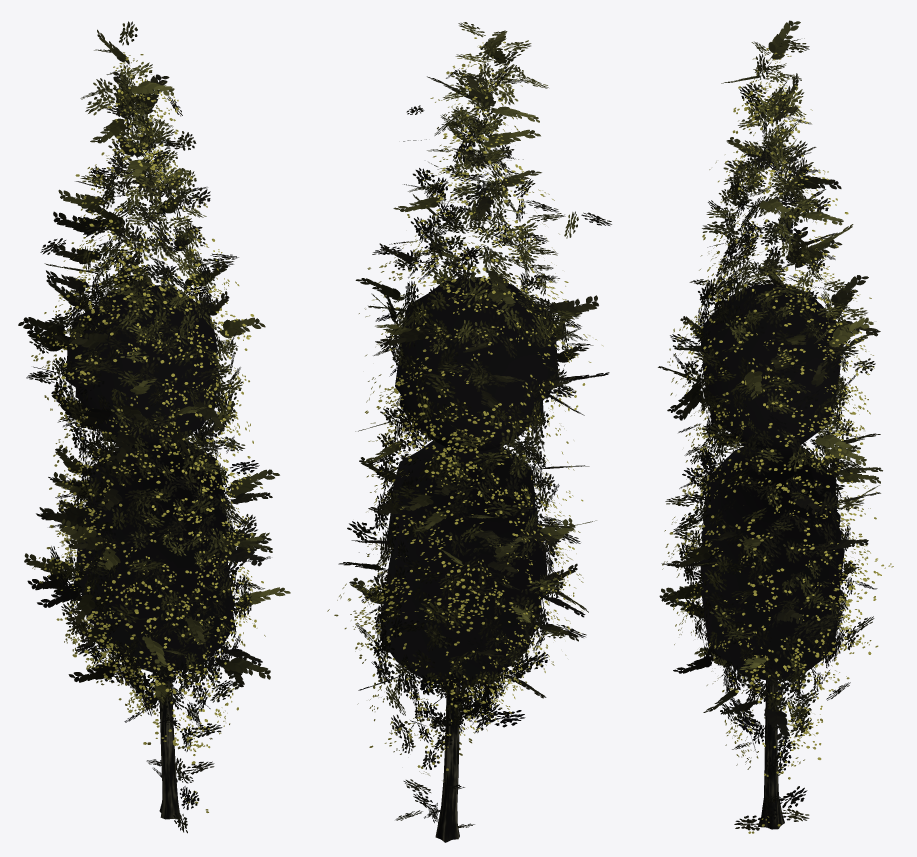
Rendered from AraTree02.glb.
3 views of the same model, side by side, from view 1: azimuth 30°, elevation 25°; view 2: azimuth 150°, elevation 25°; view 3: azimuth 270°, elevation 25° (orthographic). The views are drawn at different scales.
Parts seen in each view (by area): view 1: AraTree02_leaves; view 2: AraTree02_leaves; view 3: AraTree02_leaves.
Boxes of the visible parts, <box> form: AraTree02_leaves: <box>18,21,290,833</box>; AraTree02_leaves: <box>327,22,611,842</box>; AraTree02_leaves: <box>658,20,893,833</box>.
Bounding box in the file's own units: 4.77 × 13.99 × 4.01.
3 materials, 2 textured.
